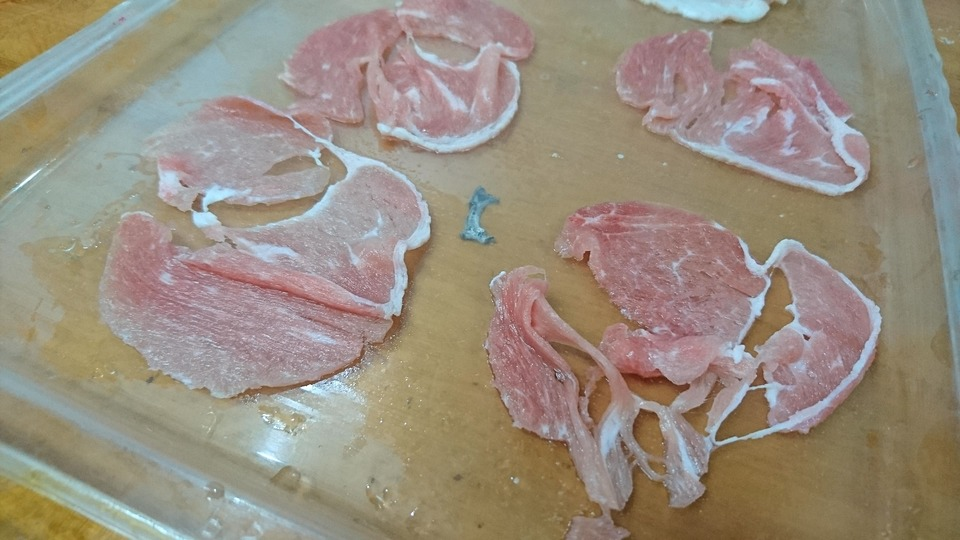restructured meat: (498, 190, 892, 498), (105, 106, 410, 402), (609, 24, 894, 190), (287, 8, 540, 150)
